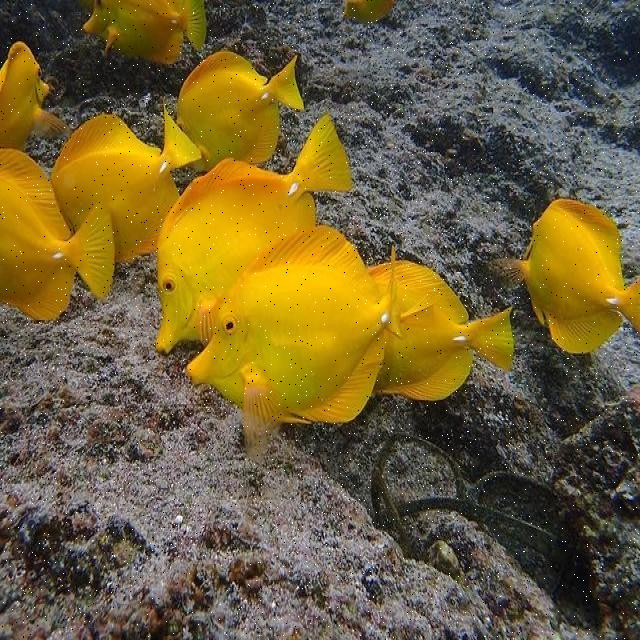fish: (184, 225, 404, 461), (155, 115, 352, 355), (50, 99, 202, 261), (492, 198, 639, 353), (0, 147, 115, 322), (372, 261, 514, 400), (177, 52, 303, 172), (0, 42, 70, 151), (84, 1, 205, 63)
